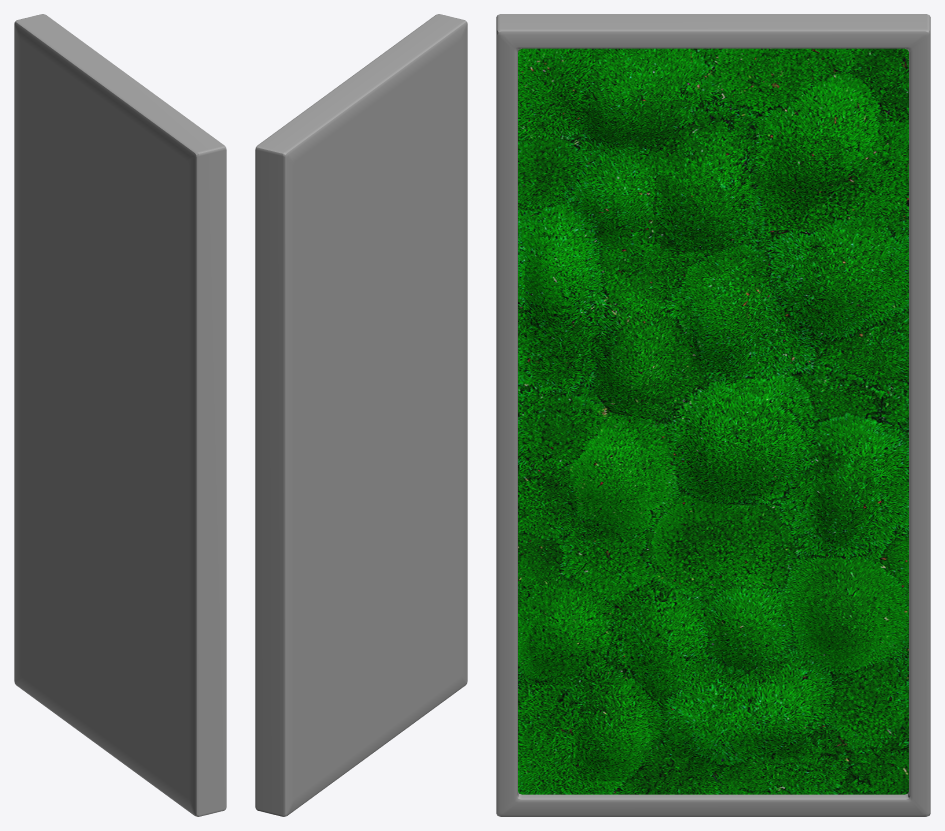
Rendered from tablo_60x30_Hugelmoos_.fbx.
3 views of the same model, side by side, from view 1: azimuth 30°, elevation 25°; view 2: azimuth 150°, elevation 25°; view 3: azimuth 270°, elevation 25° (orthographic). The views are drawn at different scales.
Visible parts, largest first — view 1: edge; view 2: edge; view 3: moss_, moss_low, edge.
Boxes of the visible parts, left/top/right/bottom form: edge: left=14, top=14, right=226, bottom=816; edge: left=255, top=14, right=467, bottom=816; moss_: left=518, top=48, right=908, bottom=794; moss_low: left=518, top=48, right=908, bottom=794; edge: left=496, top=14, right=930, bottom=816.
Size of the model in its own units: 3.93 by 60 by 30.
Materials: 2 (1 with a texture image).
